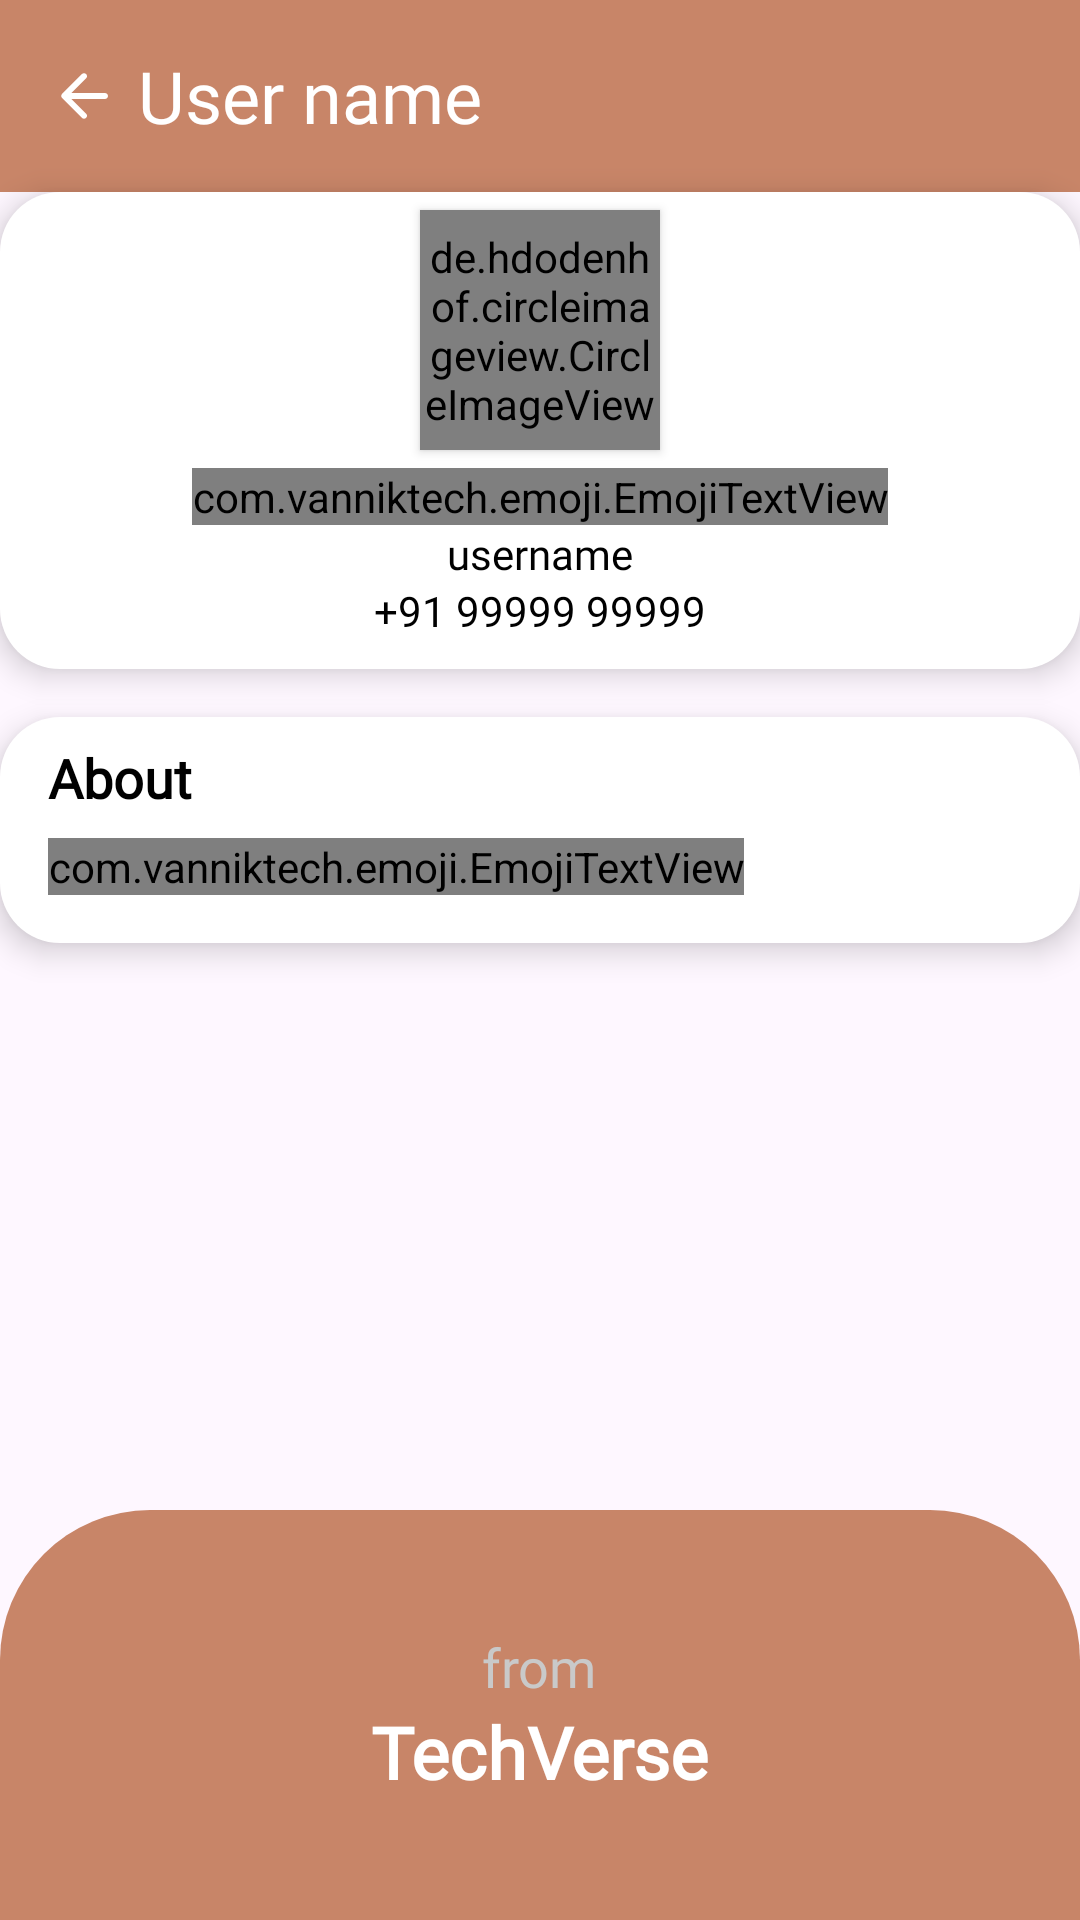

Where to tap for icons on this 1080w x 1920h app screen, as [x,y]:
back: [84,96]
